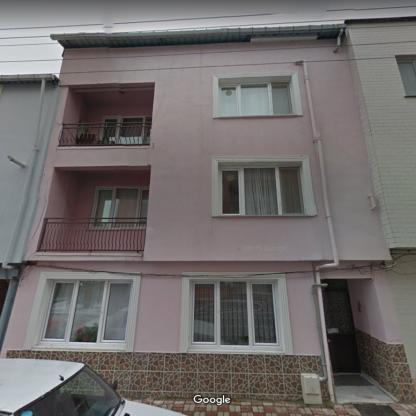door: (322, 286, 359, 373)
window: (36, 280, 133, 348), (188, 277, 280, 346), (218, 160, 306, 215), (217, 76, 296, 115), (91, 188, 144, 228), (100, 116, 150, 144), (395, 58, 413, 96)
